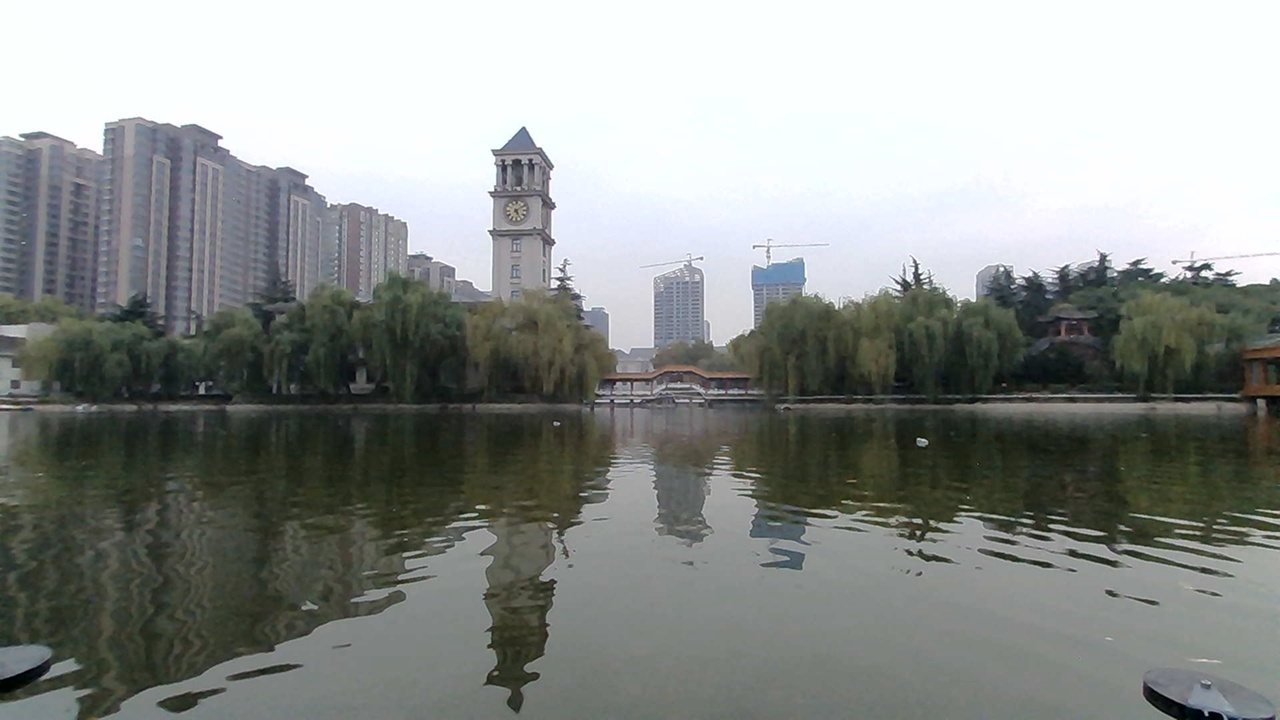bottle: (899, 428, 931, 449)
